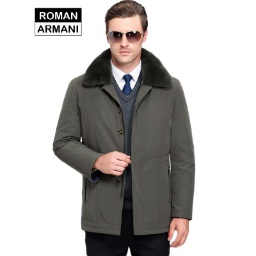face: (102, 1, 155, 63)
